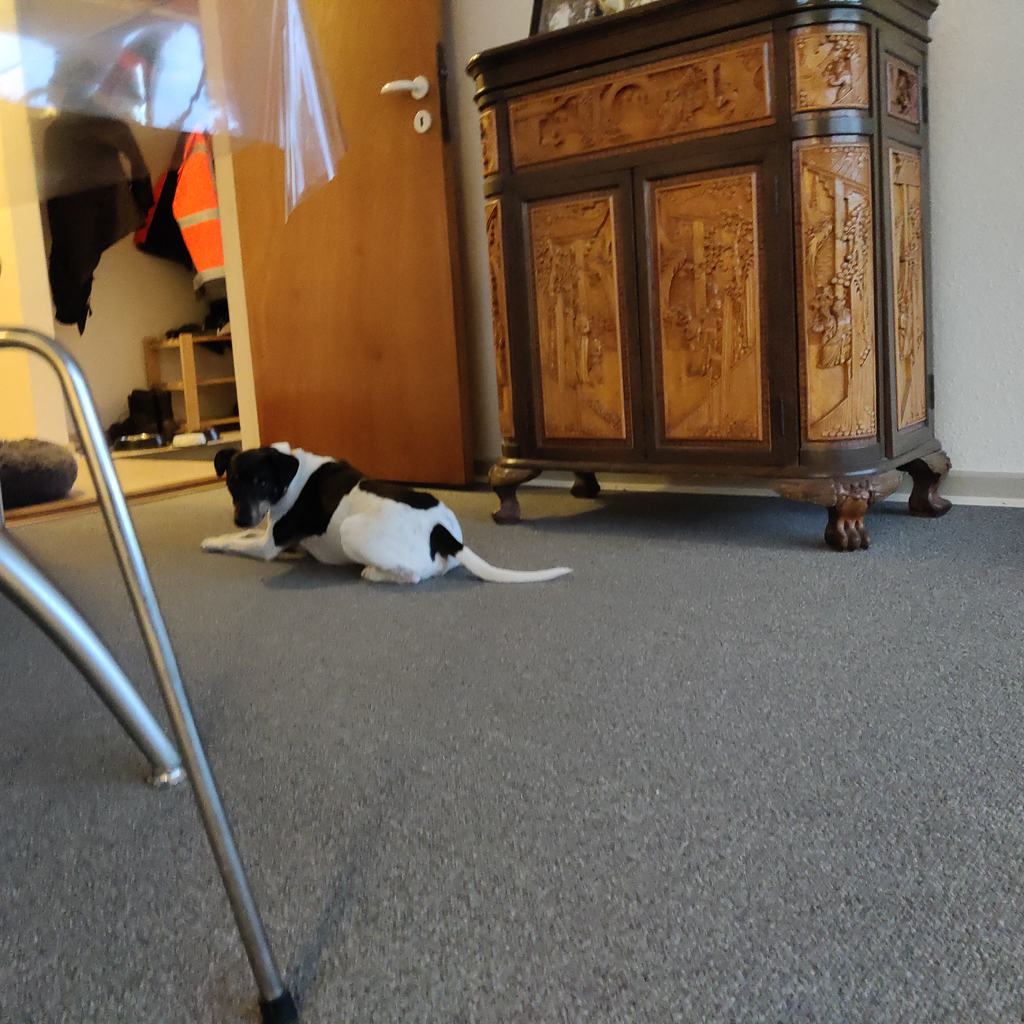Dog: (196, 428, 583, 601)
